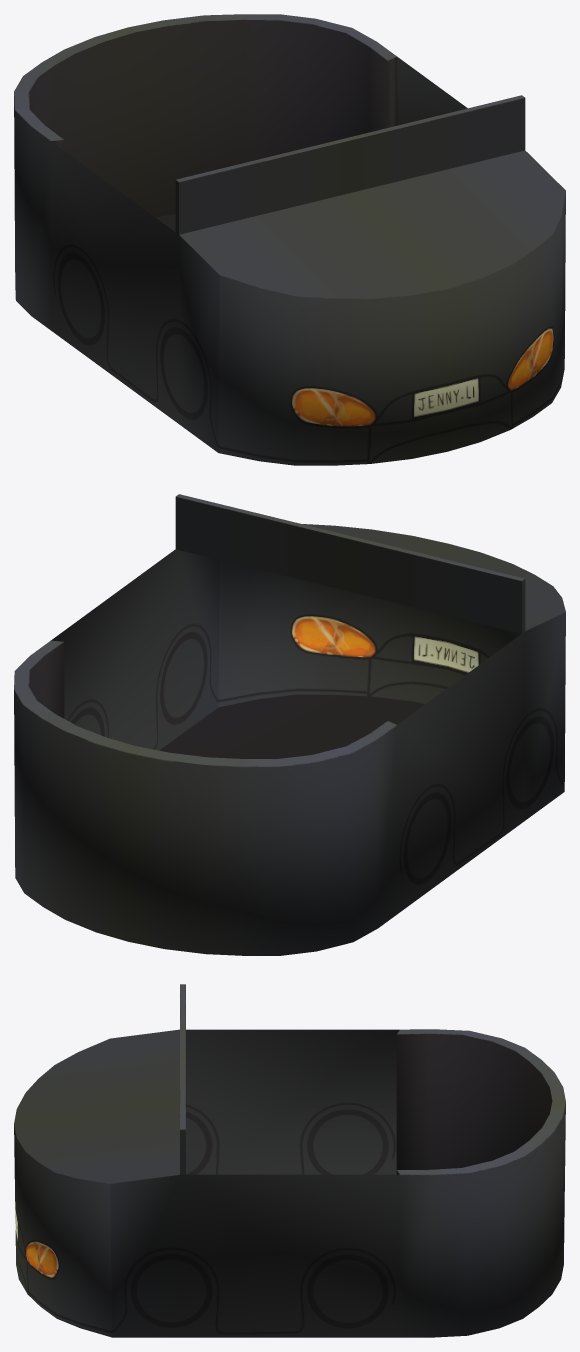
File: Car1.glb
The picture shows the model from 3 angles, top to bottom: view 1: azimuth 30°, elevation 25°; view 2: azimuth 150°, elevation 25°; view 3: azimuth 270°, elevation 25°; orthographic projection. The views are drawn at different scales.
Parts seen in each view (by area): view 1: Car.001; view 2: Car.001; view 3: Car.001.
Part boxes in pixels (box(x1,y1,x2,y2)): Car.001: box(14, 14, 565, 465); Car.001: box(14, 494, 565, 955); Car.001: box(14, 984, 565, 1337).
Size of the model in its own units: 1.1 by 0.736 by 1.77.
Materials: 1 (1 with a texture image).
